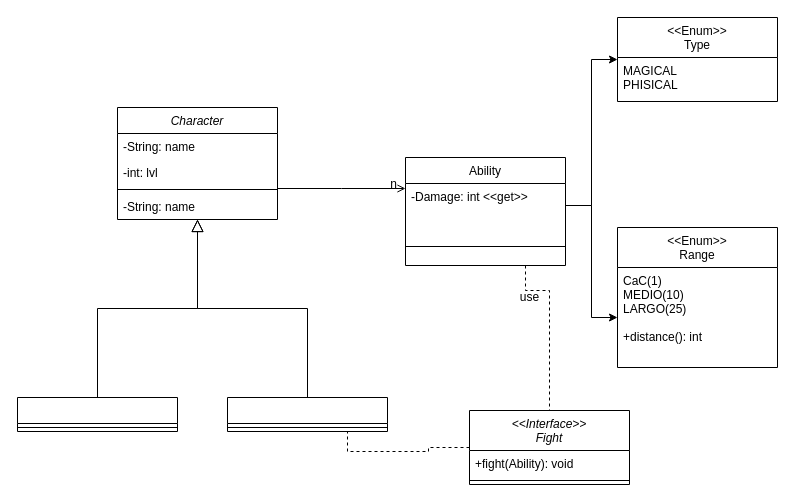
Some shapes in this 795 by 502 pixel diagram are drawn without their labels. The centre of each missing label's shape, as x and y in pixels:
NPC: (97,414)
PLAYER: (307,414)
